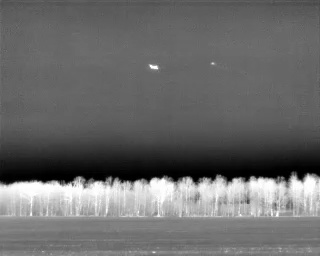DRONE: (145, 60, 163, 74)
